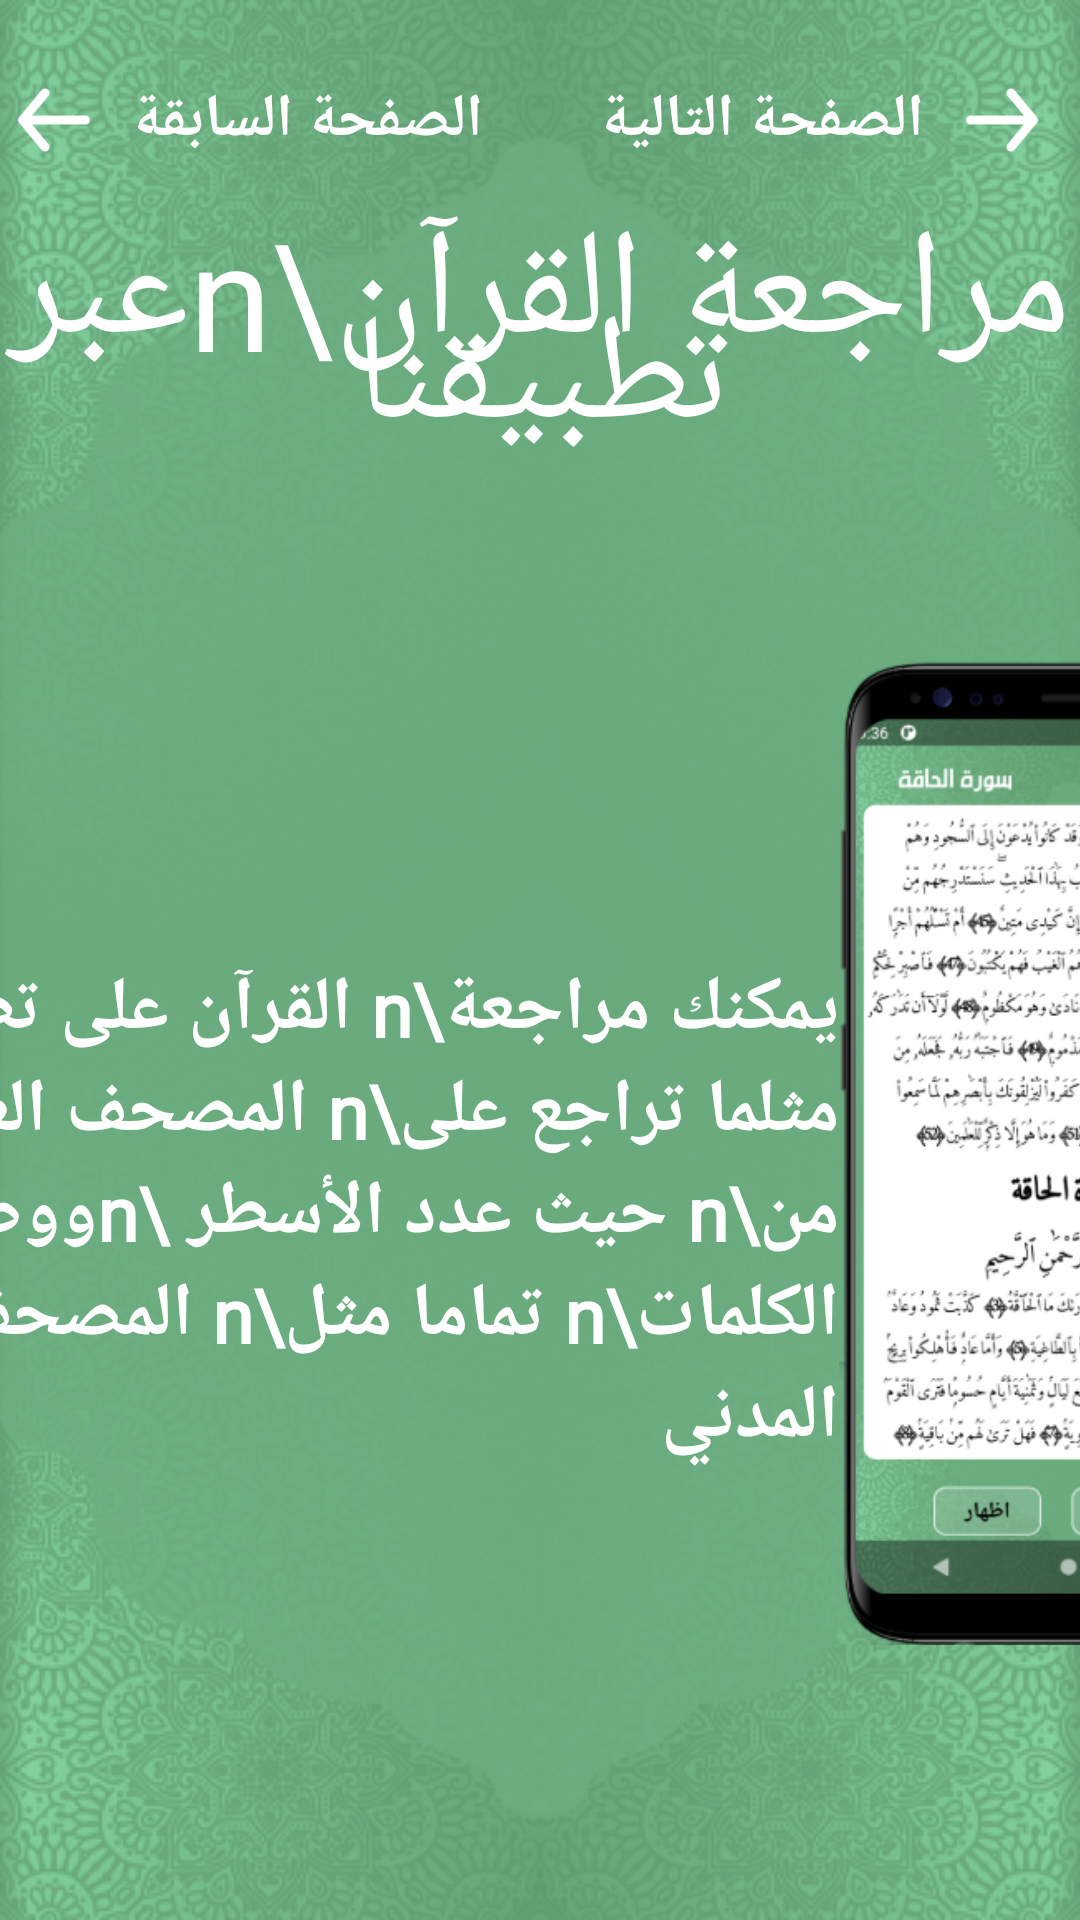

Icon bounding boxes for this 1080 x 1920 phone screenshot, format (x1, y1, x2, y2):
arrow back: (0, 66, 90, 161)
